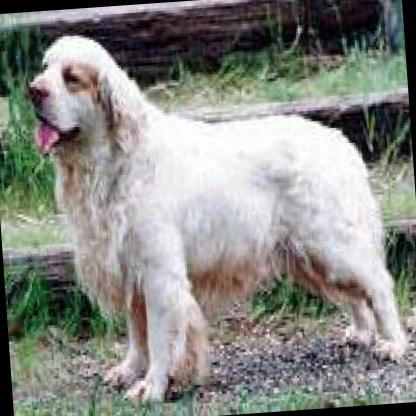clumber: (20, 6, 408, 404)
